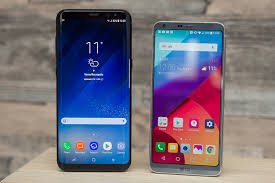lg: (53, 6, 133, 173), (148, 17, 228, 179)
